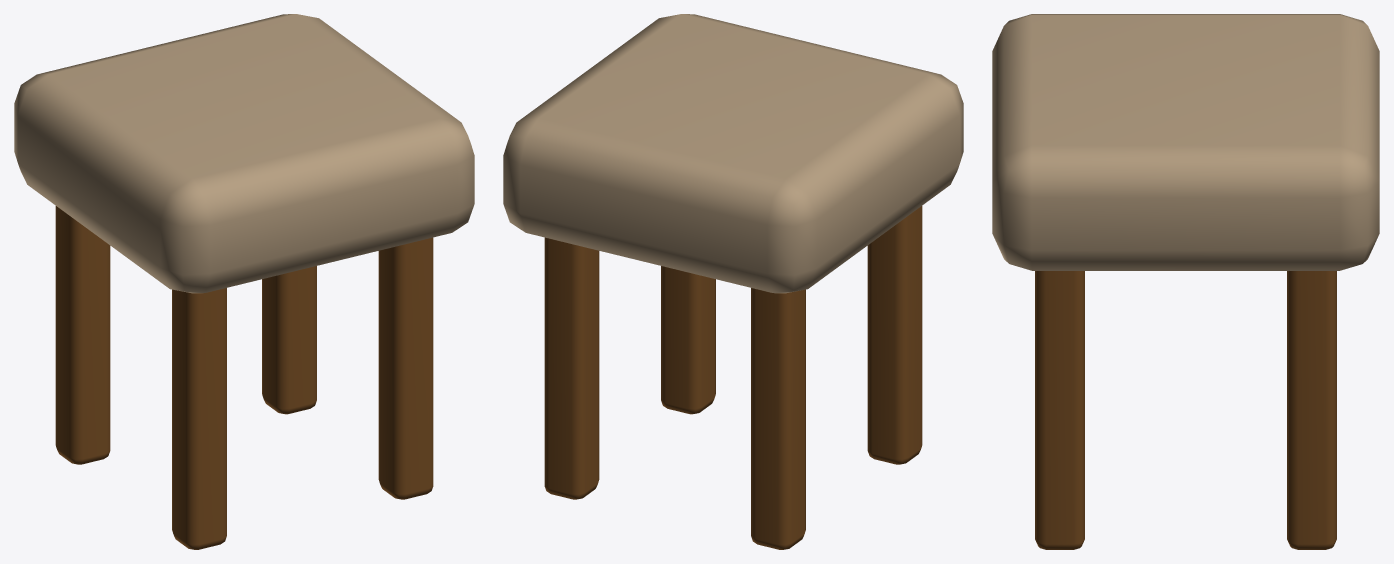
File: stool_06_beige.fbx
3 renders of one model, left to right at view 1: azimuth 30°, elevation 25°; view 2: azimuth 150°, elevation 25°; view 3: azimuth 270°, elevation 25°, orthographic. The views are drawn at different scales.
Parts seen in each view (by area): view 1: stool_06_beige; view 2: stool_06_beige; view 3: stool_06_beige.
Boxes of the visible parts, x1,y1,x2,y2 form: stool_06_beige: (14, 14, 474, 549); stool_06_beige: (503, 14, 963, 549); stool_06_beige: (992, 14, 1379, 549).
Size of the model in its own units: 41.07 by 47.84 by 41.07.
1 material, 1 textured.
